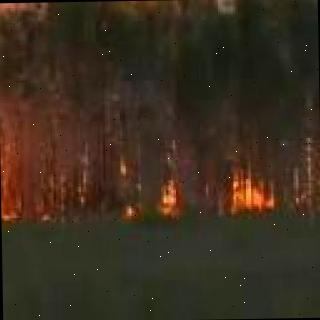fire: (228, 168, 277, 212), (152, 178, 186, 218), (0, 106, 1, 219)
